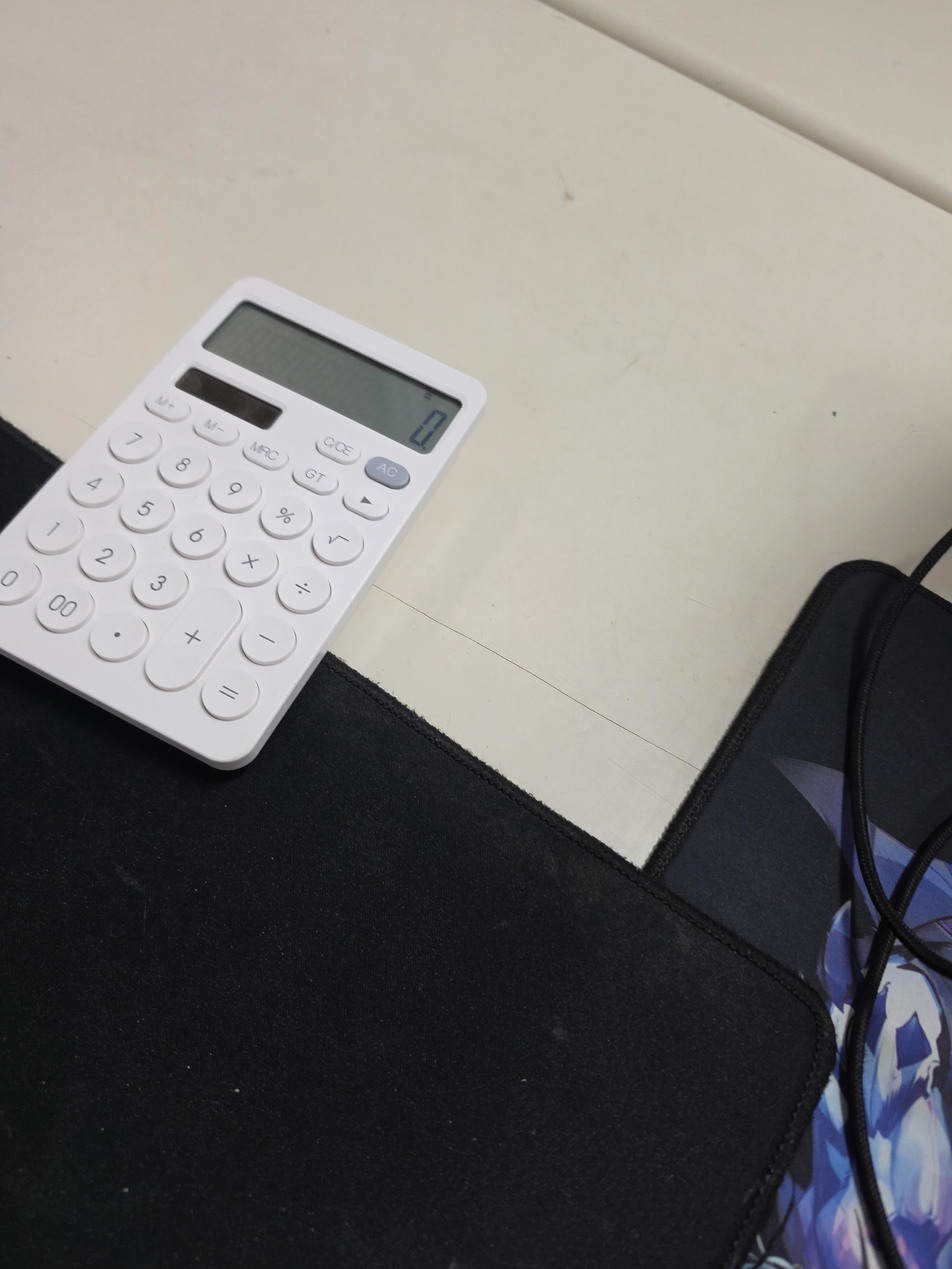calculator: (0, 277, 488, 770)
